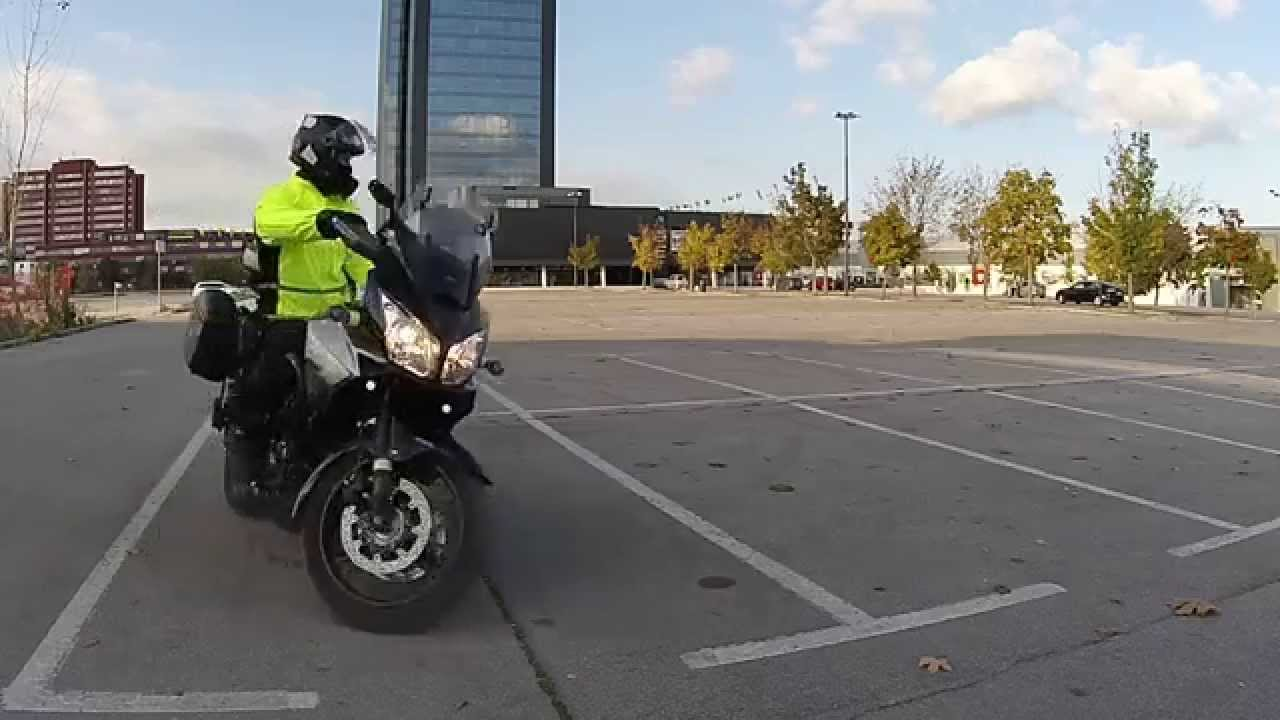empyt_space: (507, 391, 1244, 618), (768, 383, 1280, 540), (970, 370, 1280, 473), (476, 340, 774, 436), (605, 339, 957, 414)
